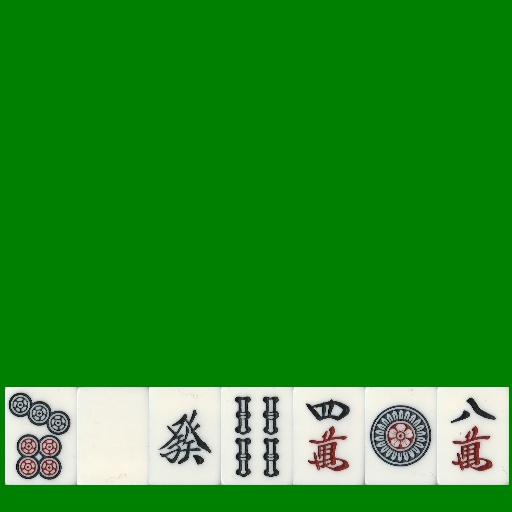1p: (365, 387, 437, 485)
4m: (293, 387, 365, 485)
4s: (221, 387, 293, 485)
7p: (5, 387, 77, 485)
8m: (437, 387, 509, 485)
hatsu: (149, 387, 221, 485)
white: (77, 387, 149, 485)
